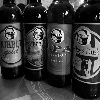beer: (21, 1, 47, 84)
